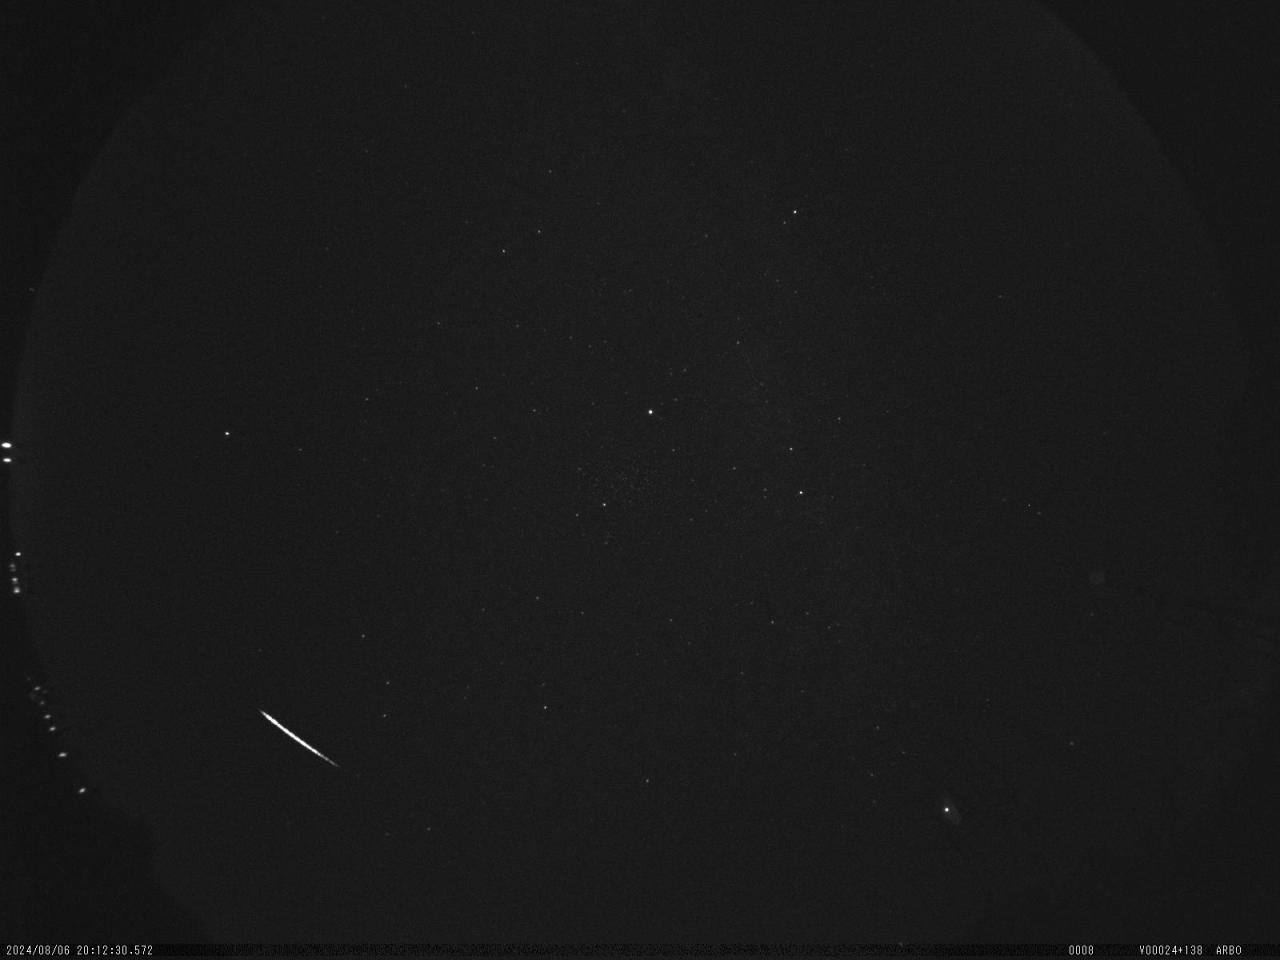Meteor: (258, 703, 340, 768)
